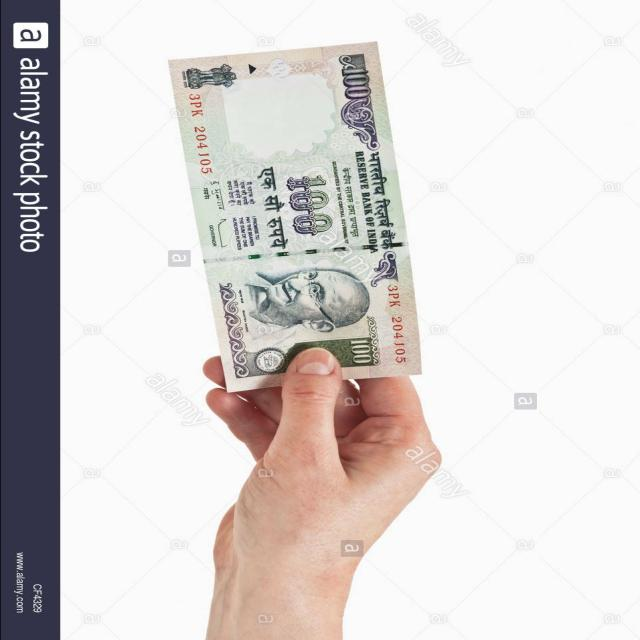100IndianRupees: (158, 39, 422, 392)
